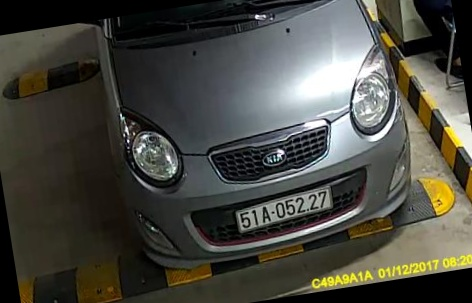plate: (231, 186, 339, 231)
